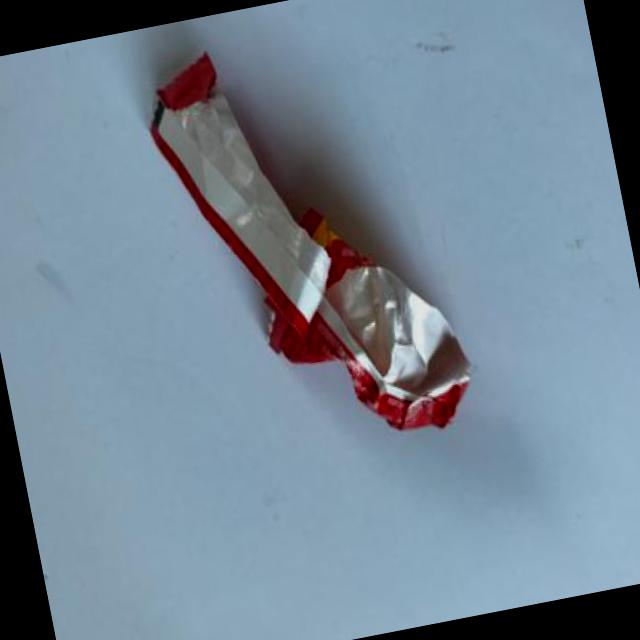bao_bi_thuc_pham: (152, 50, 474, 432)
